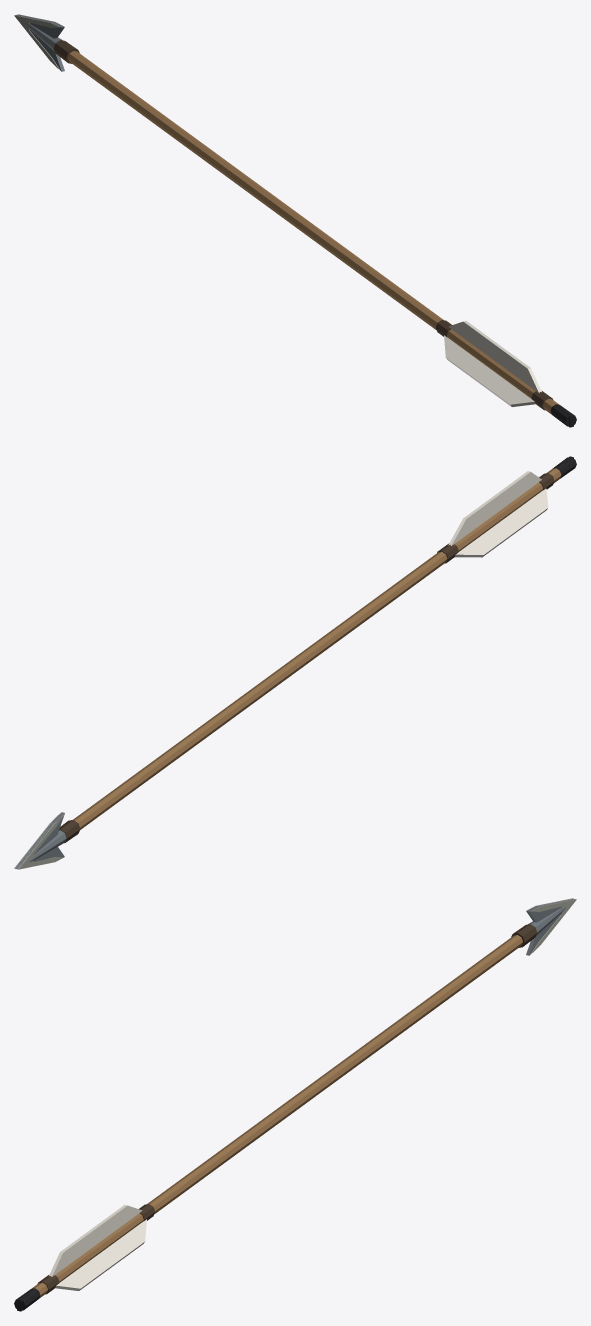
The model's file is arrow.glb.
3 views of the same model, one above another, from view 1: azimuth 30°, elevation 25°; view 2: azimuth 150°, elevation 25°; view 3: azimuth 330°, elevation 25° (orthographic).
Visible parts, largest first — view 1: arrow; view 2: arrow; view 3: arrow.
Part boxes in pixels (x1,y1,x2,y2): arrow: [14, 14, 576, 427]; arrow: [14, 456, 576, 869]; arrow: [14, 898, 576, 1311].
Size of the model in its own units: 0.0289 by 0.032 by 0.731.
1 material, 1 textured.
